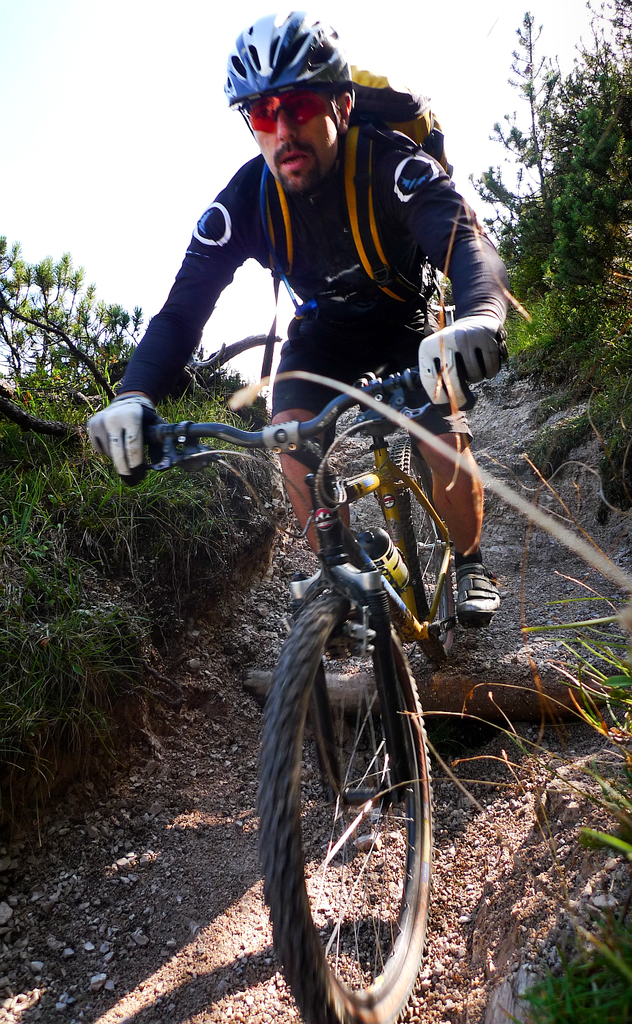Bike: (110, 337, 541, 1024)
